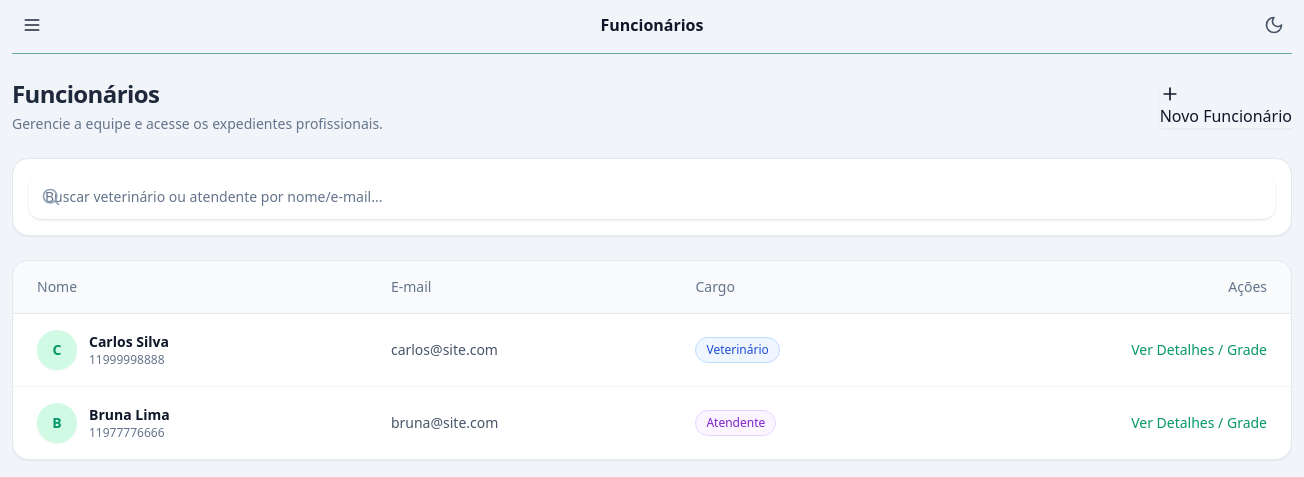
Test: FuncionariosPage › filtra funcionários por nome ou email
In the field with placeholder "Buscar veterinário ou atendente por nome/e-mail...": (652, 197) [29,175,1275,219], type "bruna"
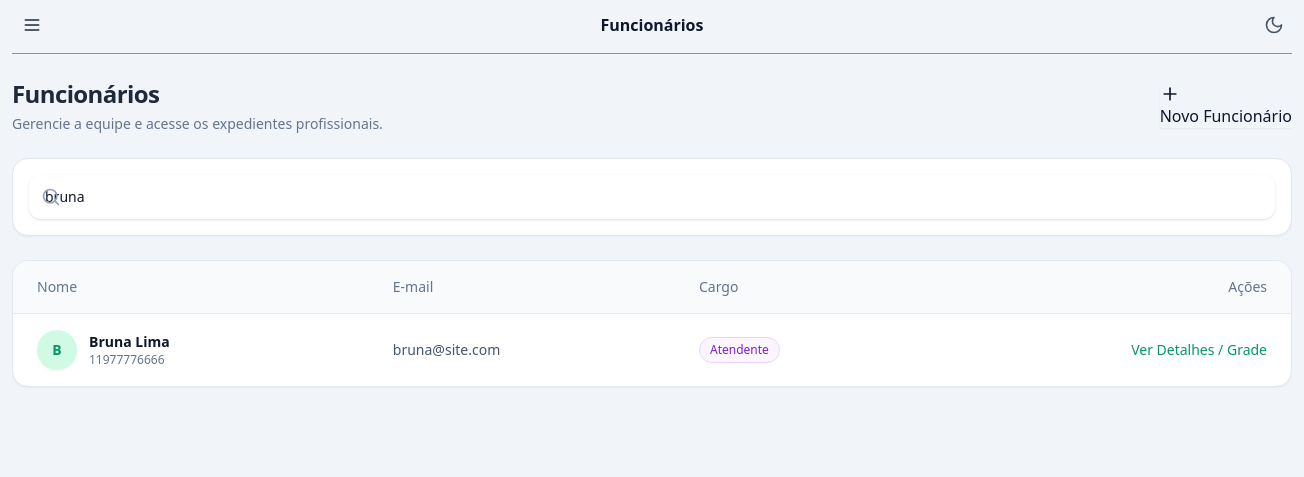
Expected: the text "Carlos Silva" is gone
